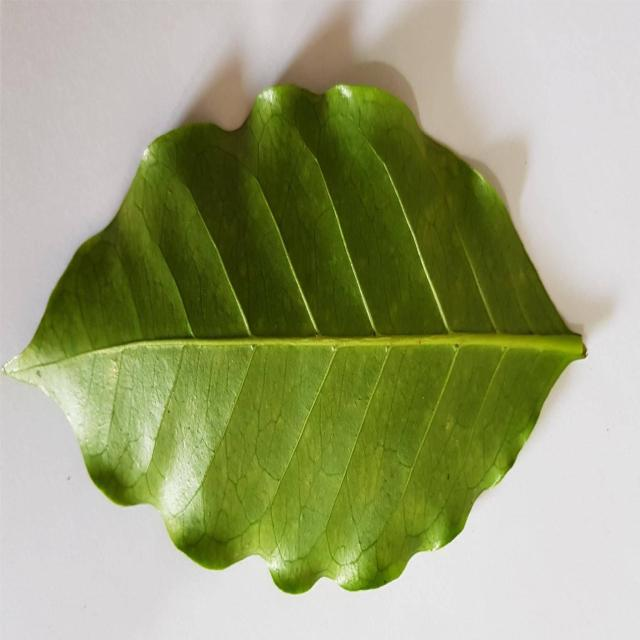nodisease: (4, 84, 586, 593)
